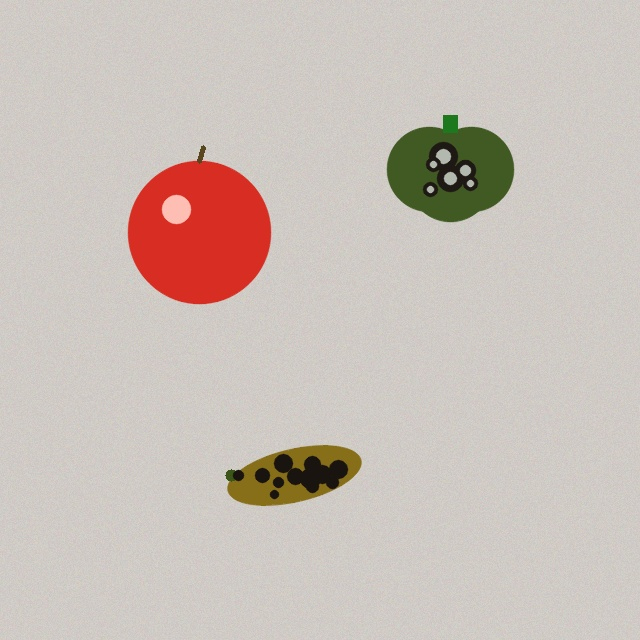Fresh apple: (128, 147, 270, 303)
Rotten banana: (223, 443, 365, 507)
Rotten bell pepper: (387, 115, 513, 221)
